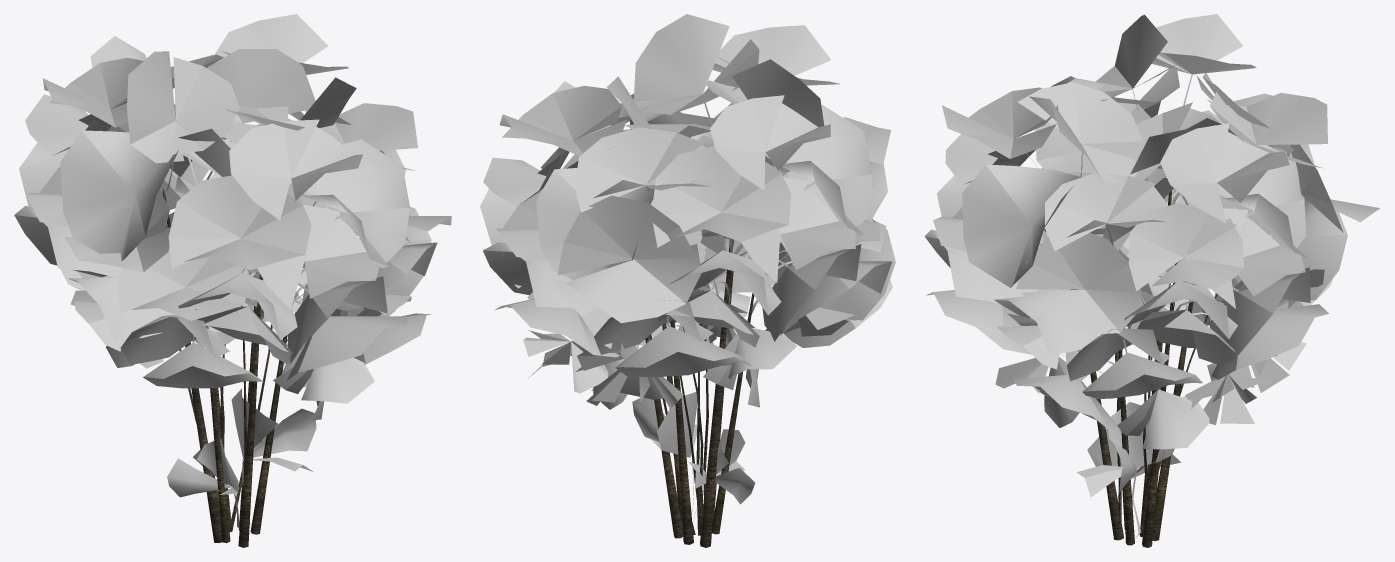
File: zhiwu04.fbx
3 renders of one model, left to right at view 1: azimuth 30°, elevation 25°; view 2: azimuth 150°, elevation 25°; view 3: azimuth 270°, elevation 25°, orthographic. The views are drawn at different scales.
Visible parts, largest first — view 1: zhiwu04; view 2: zhiwu04; view 3: zhiwu04.
Boxes of the visible parts, left/top/right/bottom form: zhiwu04: left=14, top=14, right=451, bottom=547; zhiwu04: left=480, top=14, right=895, bottom=547; zhiwu04: left=924, top=14, right=1379, bottom=547.
Size of the model in its own units: 28.5 by 38.26 by 32.19.
